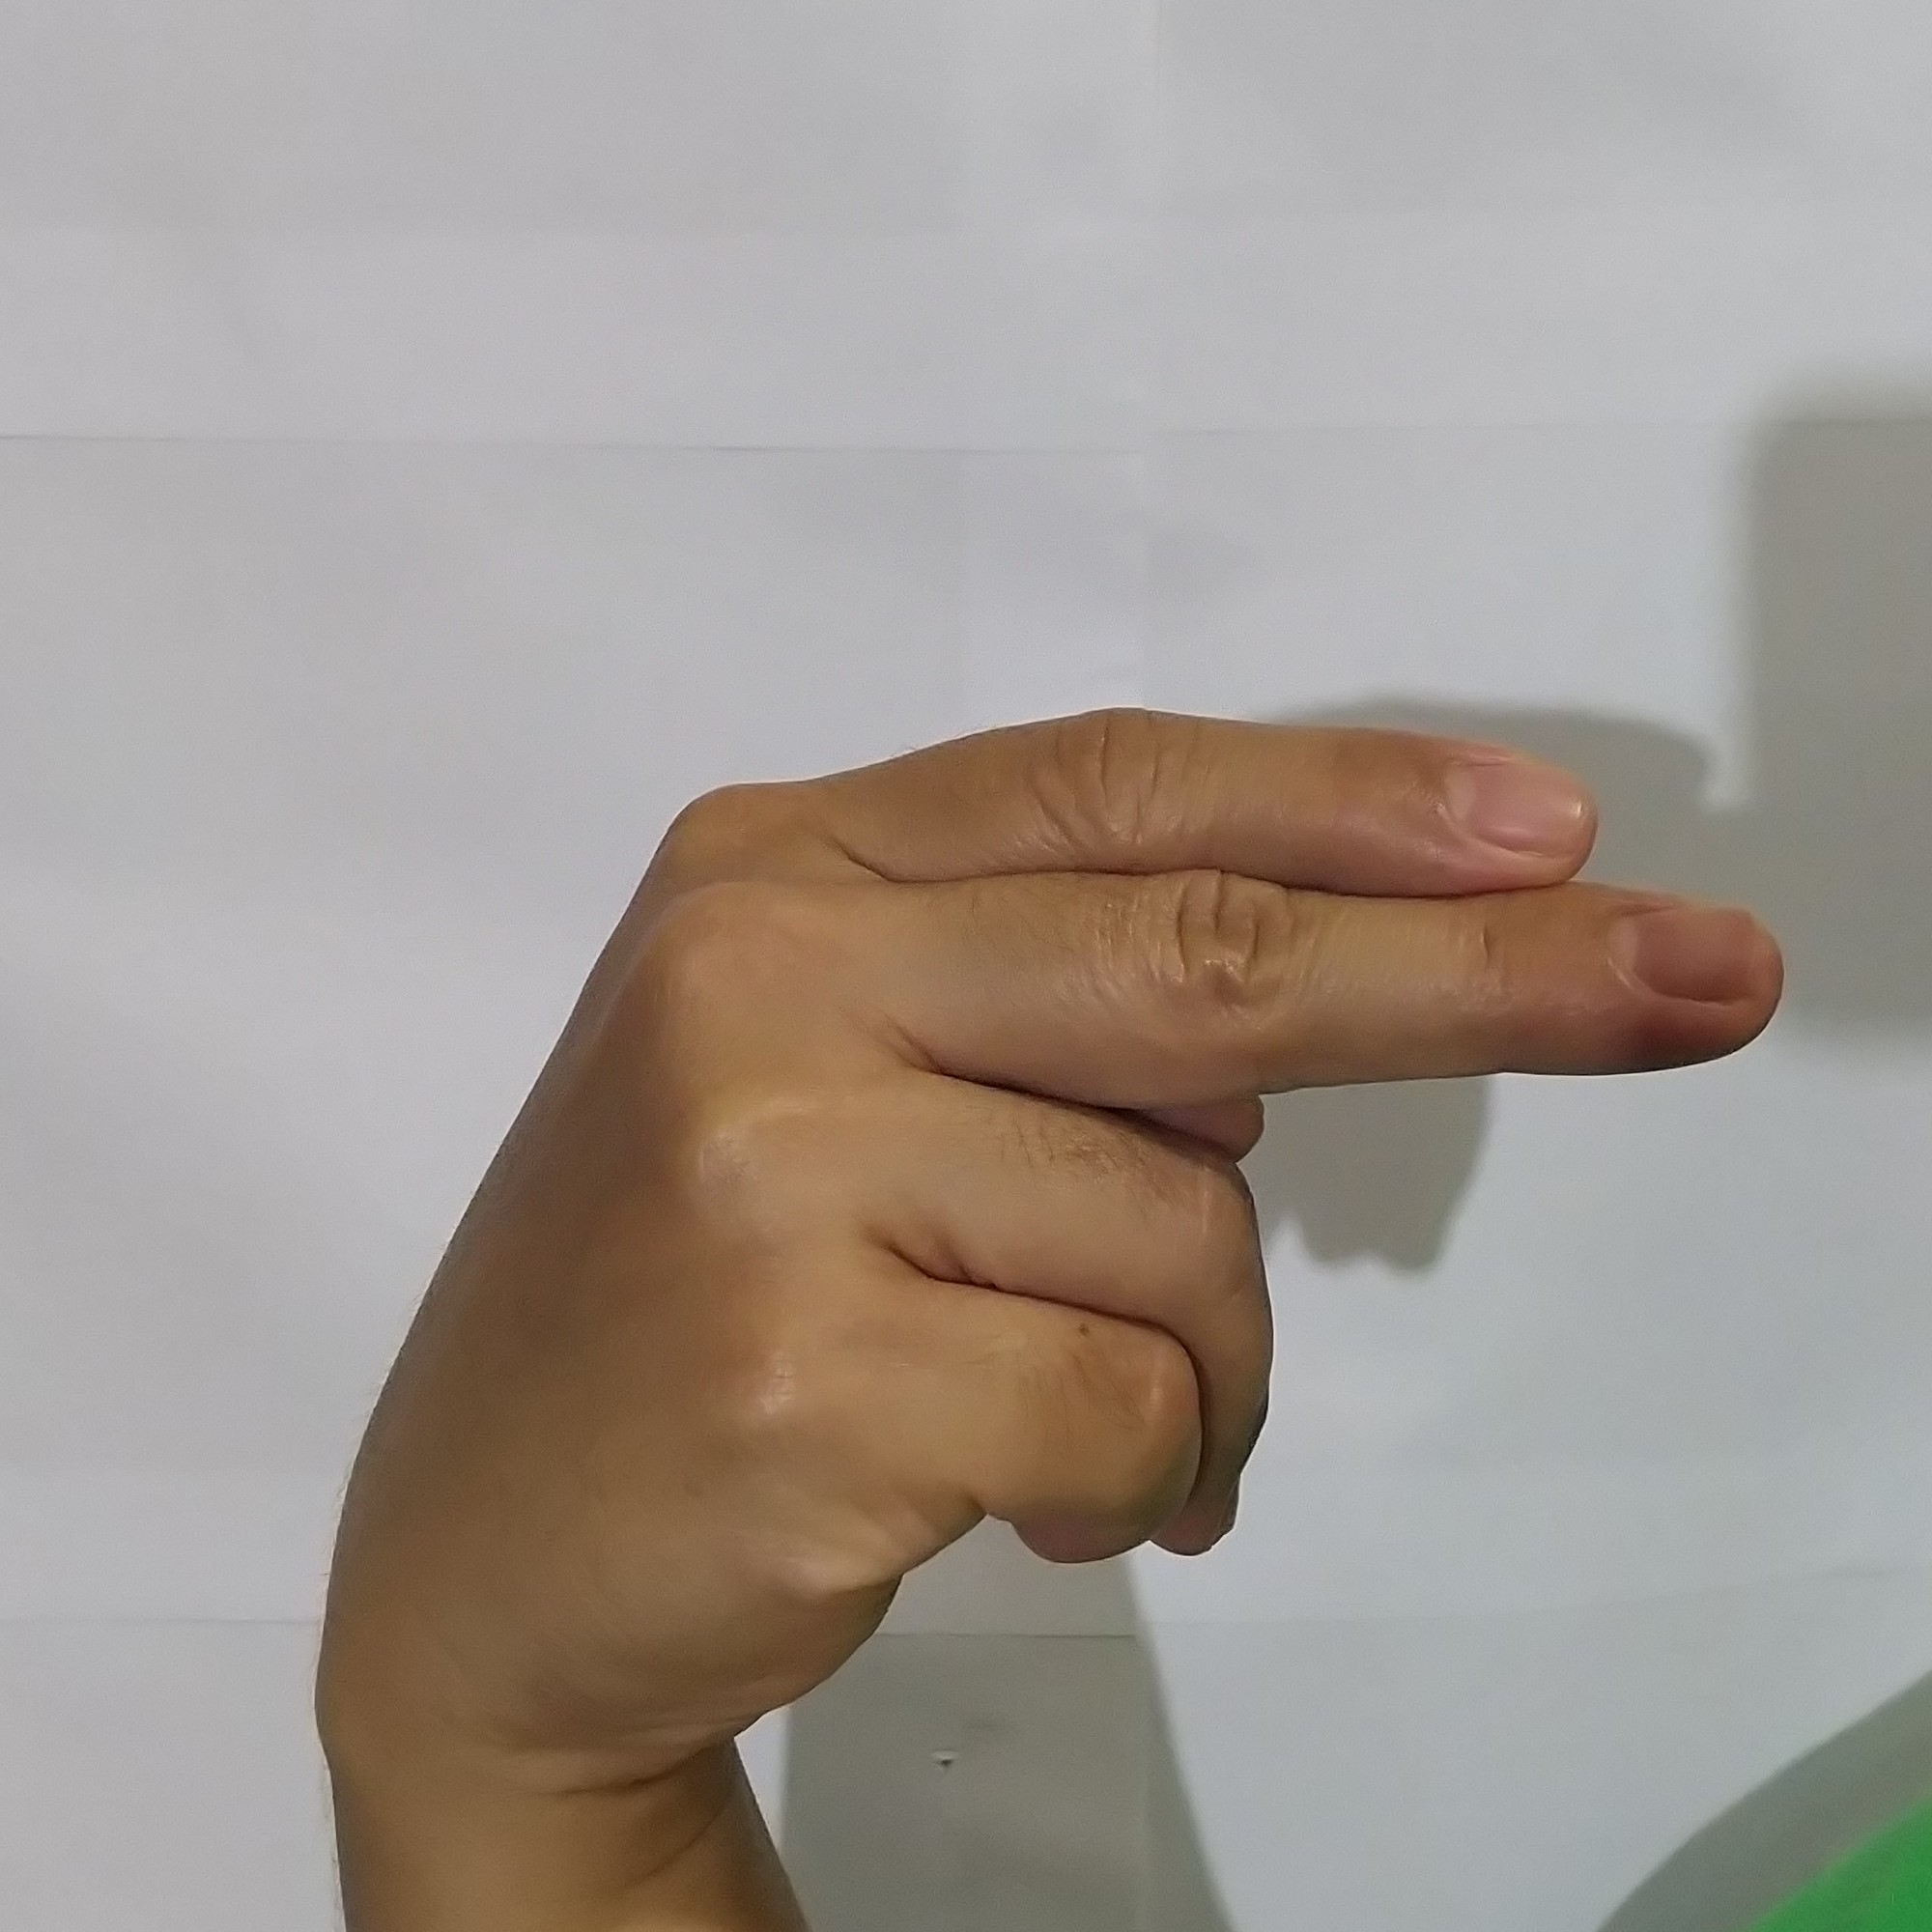H: (318, 665, 1815, 1743)
